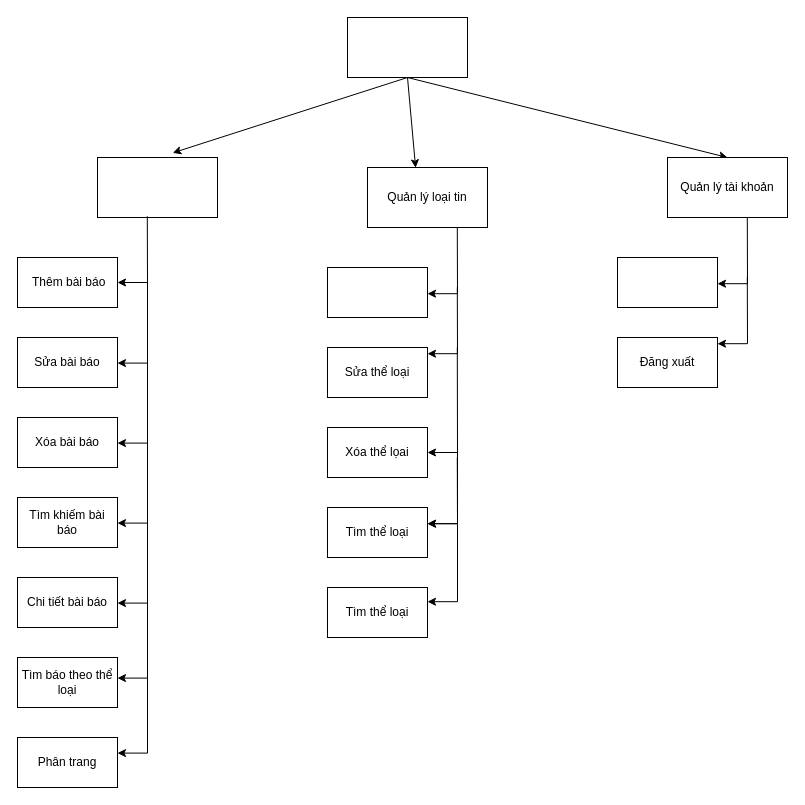
The diagram is 805 pixels wide and 805 high, and some of its shapes have lost their labels. Here are the shapes that lost their labels. From the top down, the box of each, then its label:
(346, 16, 468, 78): Báo mới
(96, 156, 218, 218): Quản lí bài báo
(326, 266, 428, 318): Thêm thể loại
(616, 256, 718, 308): Đăng nhập
